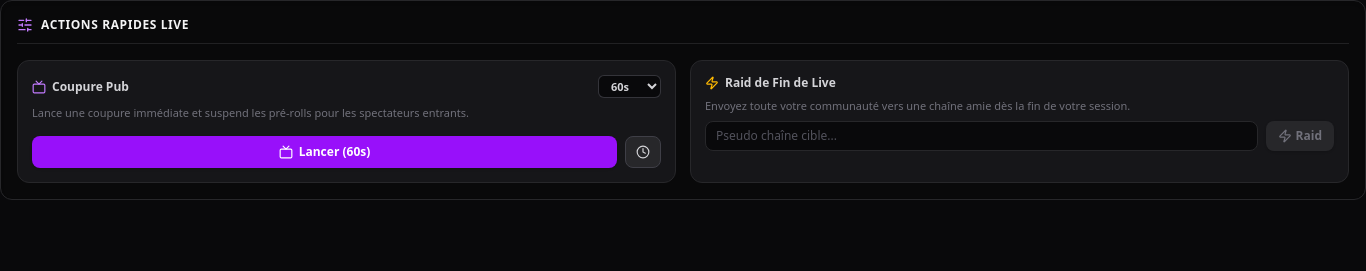
🧩 Composant : TwitchQuickActions.vue › doit déclencher une coupure pub et émettre action-completed au clic sur Lancer
Click the button "Lancer (60s)" at (324, 152), box [32,136,617,168]
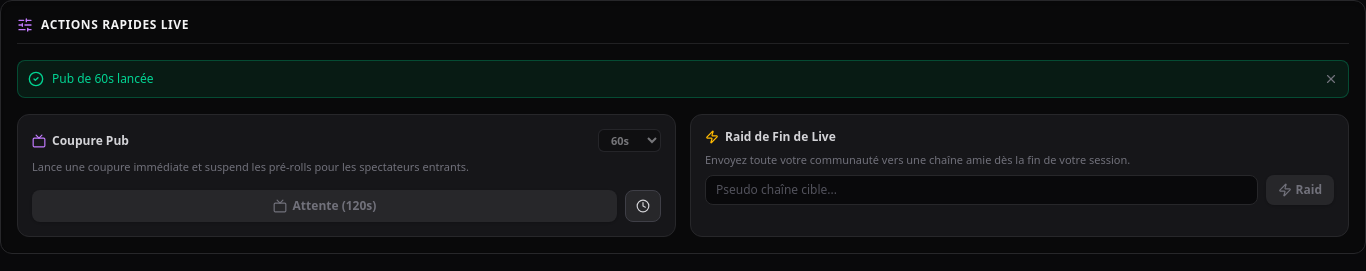
Result: the text "Pub de 60s lancée" is shown at [52,70,154,87]
